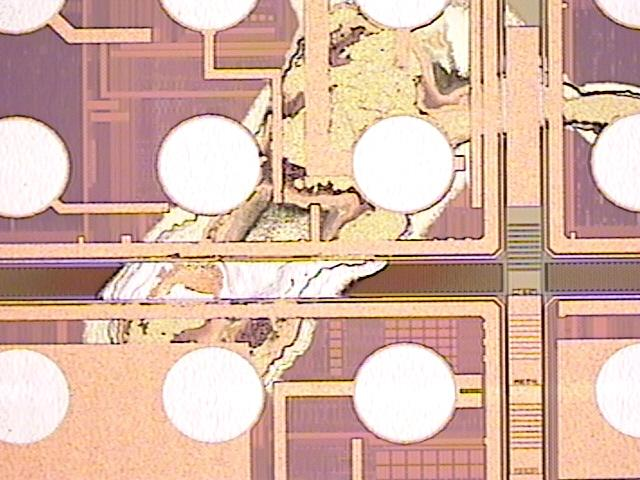BLOCK ETCH: (81, 1, 640, 401)
